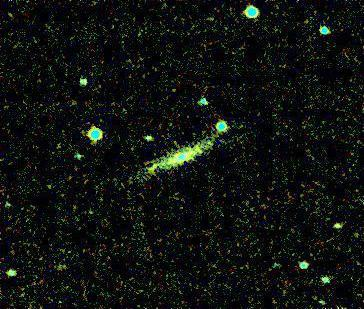star: (140, 150, 170, 180)
